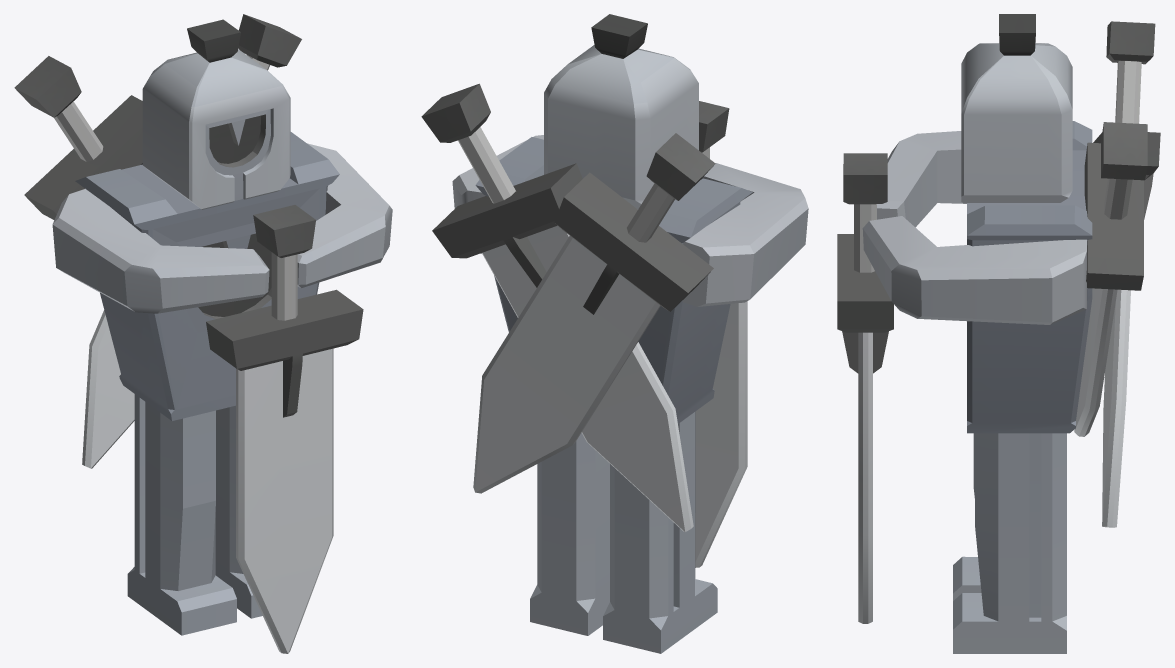
The model's file is Statue.fbx.
The picture shows the model from 3 angles, left to right: view 1: azimuth 30°, elevation 25°; view 2: azimuth 150°, elevation 25°; view 3: azimuth 270°, elevation 25°; orthographic projection. The views are drawn at different scales.
Visible parts, largest first — view 1: Legs1; view 2: Legs1; view 3: Legs1.
Boxes of the visible parts, bbox=[...] form: Legs1: bbox=[14, 14, 392, 653]; Legs1: bbox=[421, 14, 808, 653]; Legs1: bbox=[837, 14, 1160, 653].
Size of the model in its own units: 2.06 by 3.88 by 1.9.
